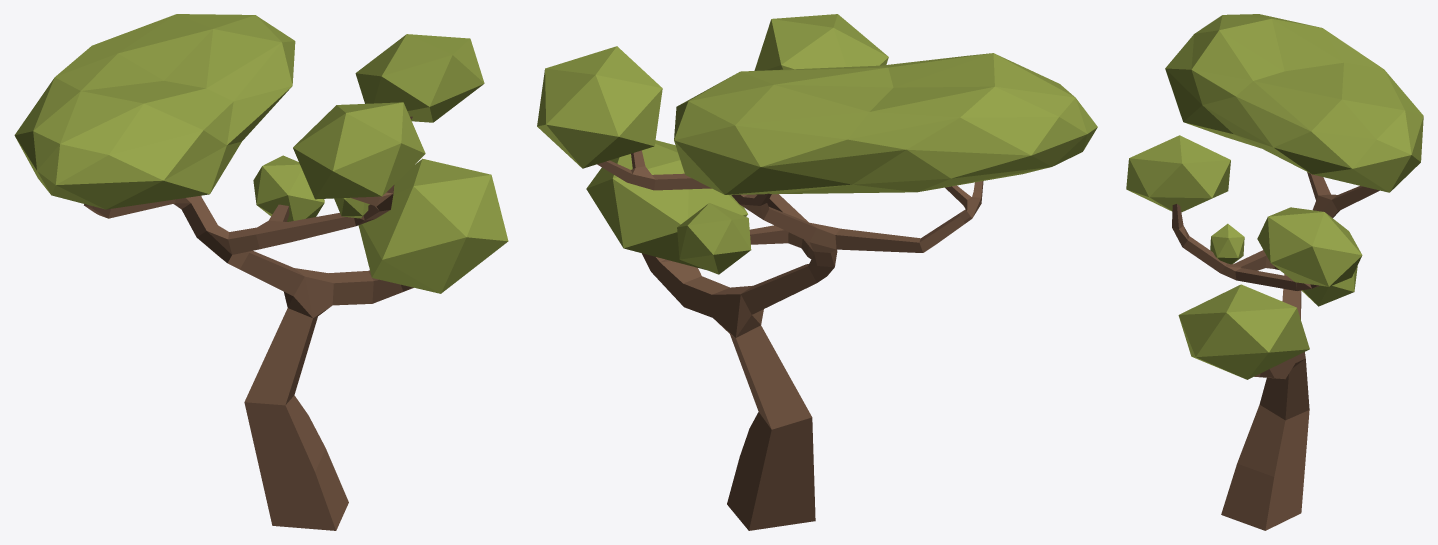
Rendered from GrasslandTree1b.fbx.
3 renders of one model, left to right at view 1: azimuth 30°, elevation 25°; view 2: azimuth 150°, elevation 25°; view 3: azimuth 270°, elevation 25°, orthographic. The views are drawn at different scales.
Visible parts, largest first — view 1: Icosphere.001, Plane, Icosphere.005, Icosphere.003, Icosphere, Icosphere.007; view 2: Icosphere.001, Plane, Icosphere, Icosphere.005, Icosphere.003, Icosphere.007; view 3: Icosphere.001, Plane, Icosphere.005, Icosphere, Icosphere.003, Icosphere.002, Icosphere.007.
Boxes of the visible parts, x1=… form: Icosphere.001: x1=14, y1=14, x2=295, y2=209; Plane: x1=84, y1=116, x2=413, y2=530; Icosphere.005: x1=358, y1=158, x2=508, y2=293; Icosphere.003: x1=293, y1=102, x2=425, y2=199; Icosphere: x1=355, y1=34, x2=484, y2=122; Icosphere.007: x1=253, y1=155, x2=324, y2=221; Icosphere.001: x1=674, y1=53, x2=1097, y2=194; Plane: x1=597, y1=150, x2=983, y2=530; Icosphere: x1=537, y1=46, x2=662, y2=168; Icosphere.005: x1=586, y1=140, x2=747, y2=269; Icosphere.003: x1=754, y1=14, x2=888, y2=70; Icosphere.007: x1=677, y1=203, x2=751, y2=274; Icosphere.001: x1=1165, y1=14, x2=1423, y2=192; Plane: x1=1172, y1=172, x2=1379, y2=530; Icosphere.005: x1=1178, y1=284, x2=1309, y2=379; Icosphere: x1=1257, y1=207, x2=1362, y2=286; Icosphere.003: x1=1126, y1=135, x2=1230, y2=212; Icosphere.002: x1=1210, y1=223, x2=1244, y2=264; Icosphere.007: x1=1301, y1=266, x2=1357, y2=306.
Size of the model in its own units: 1099 by 1039 by 693.
